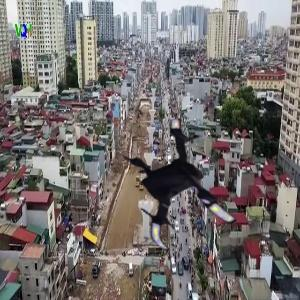drone: (104, 107, 252, 255)
